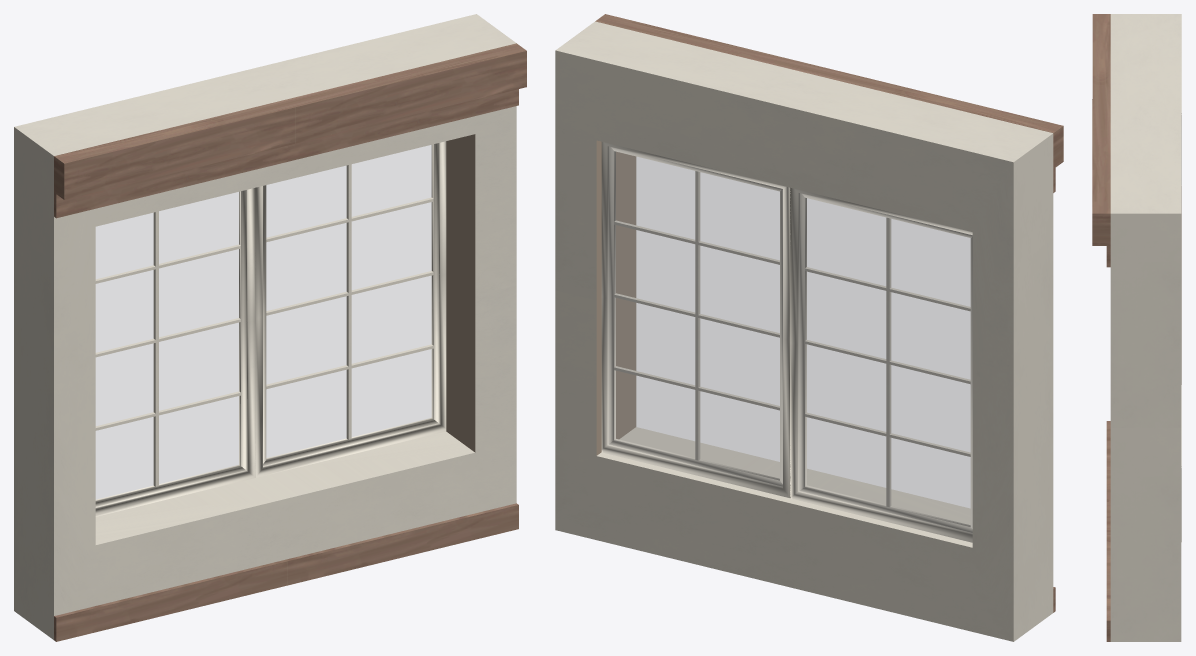
Rendered from WindowWall.glb.
The picture shows the model from 3 angles, left to right: view 1: azimuth 30°, elevation 25°; view 2: azimuth 150°, elevation 25°; view 3: azimuth 270°, elevation 25°; orthographic projection. The views are drawn at different scales.
Visible parts, largest first — view 1: Window Wall; view 2: Window Wall; view 3: Window Wall.
Part boxes in pixels (box(x1,y1,x2,y2)): Window Wall: box(14, 14, 526, 641); Window Wall: box(555, 14, 1063, 641); Window Wall: box(1092, 14, 1181, 641).
Bounding box in the file's own units: 4 × 4 × 0.7533.
2 materials, 1 textured.
